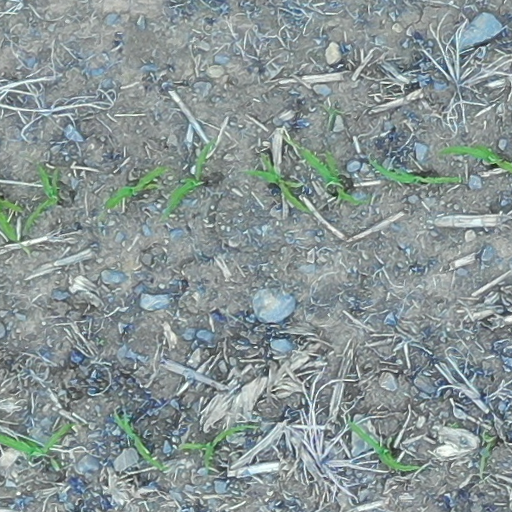planta: (294, 142, 373, 208), (161, 135, 218, 218), (238, 151, 311, 213), (345, 418, 421, 475), (176, 421, 257, 473), (110, 409, 165, 471), (367, 155, 468, 187), (103, 164, 169, 211), (22, 162, 62, 228)
